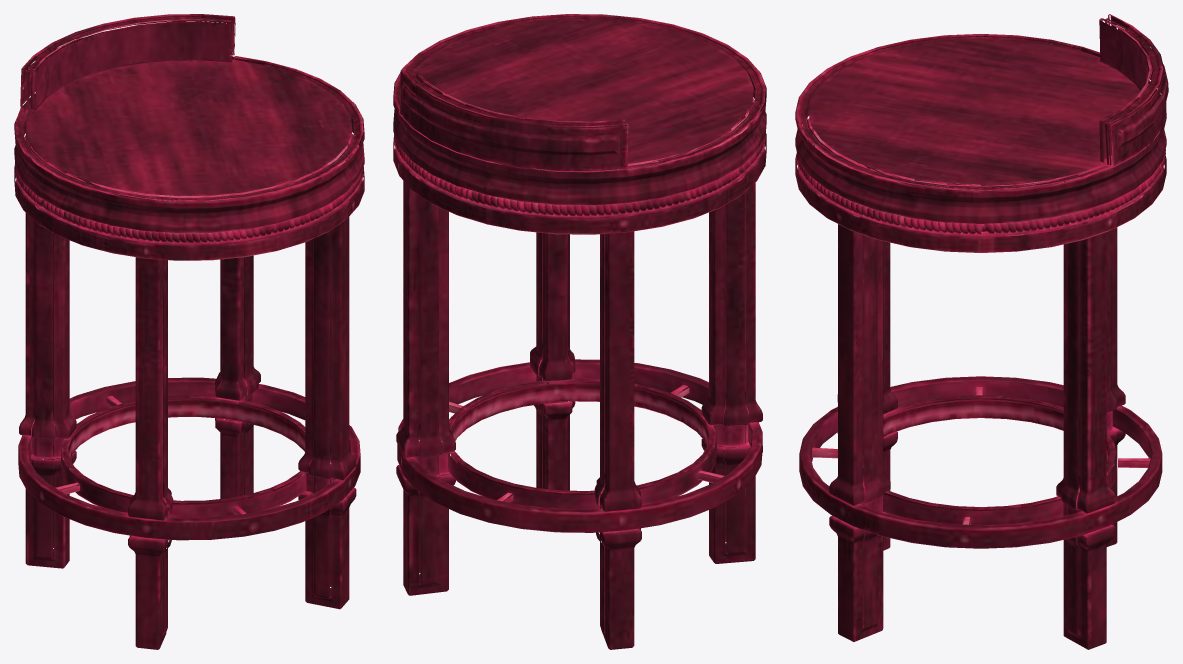
The model's file is nyb_barstool_pink.glb.
3 renders of one model, left to right at view 1: azimuth 30°, elevation 25°; view 2: azimuth 150°, elevation 25°; view 3: azimuth 270°, elevation 25°, orthographic. The views are drawn at different scales.
Parts seen in each view (by area): view 1: bar_chair_round_01; view 2: bar_chair_round_01; view 3: bar_chair_round_01.
Part boxes in pixels (x1=…): bar_chair_round_01: x1=14, y1=14, x2=364, y2=649; bar_chair_round_01: x1=393, y1=14, x2=766, y2=649; bar_chair_round_01: x1=795, y1=14, x2=1168, y2=649.
Bounding box in the file's own units: 0.4831 × 0.7505 × 0.486.
1 material, 1 textured.
